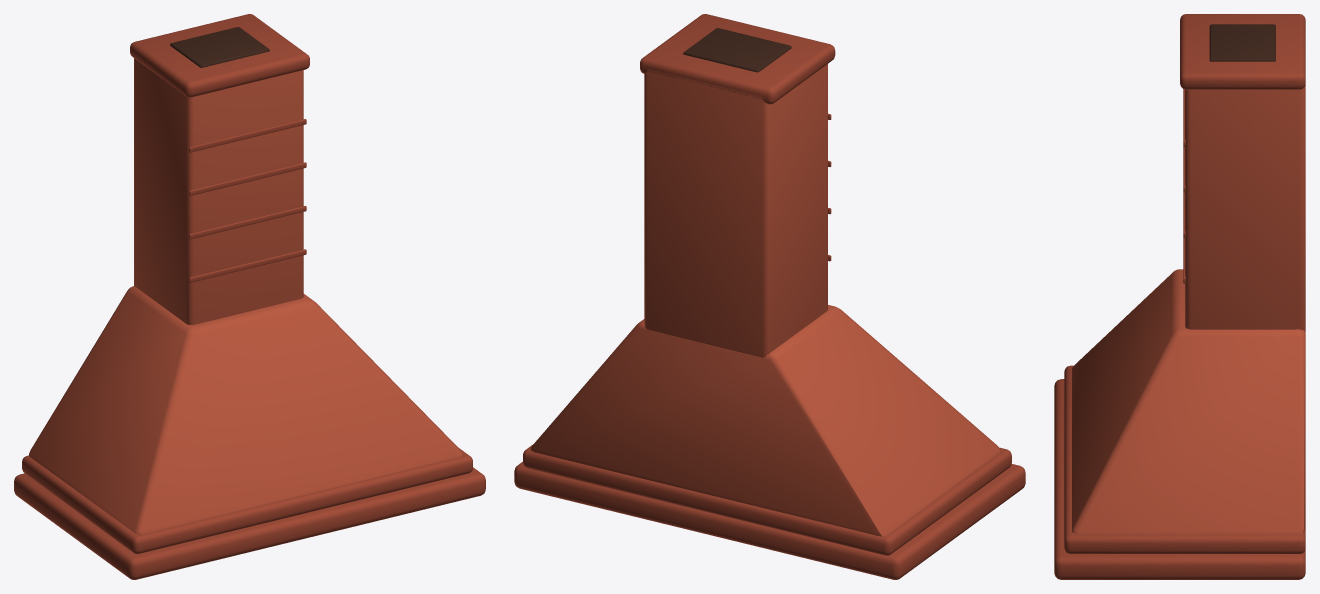
The model's file is coifa_quadrada_tijolo.glb.
The picture shows the model from 3 angles, left to right: view 1: azimuth 30°, elevation 25°; view 2: azimuth 150°, elevation 25°; view 3: azimuth 270°, elevation 25°; orthographic projection. The views are drawn at different scales.
Parts seen in each view (by area): view 1: coifa_quadrada_tijolo; view 2: coifa_quadrada_tijolo; view 3: coifa_quadrada_tijolo.
Part boxes in pixels (box(x1,y1,x2,y2)): coifa_quadrada_tijolo: box(14, 14, 485, 579); coifa_quadrada_tijolo: box(514, 14, 1025, 579); coifa_quadrada_tijolo: box(1054, 14, 1305, 579).
Size of the model in its own units: 0.86 by 0.989 by 0.5.
2 materials, 1 textured.
